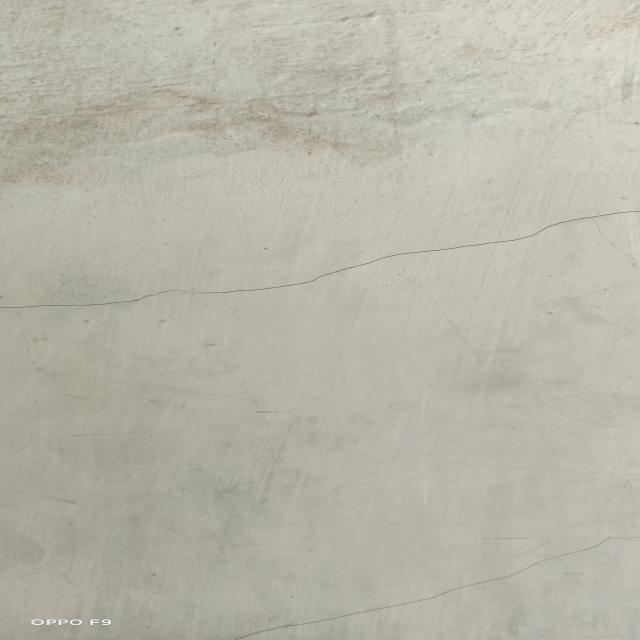Crack: (8, 218, 638, 322), (227, 543, 640, 636)
